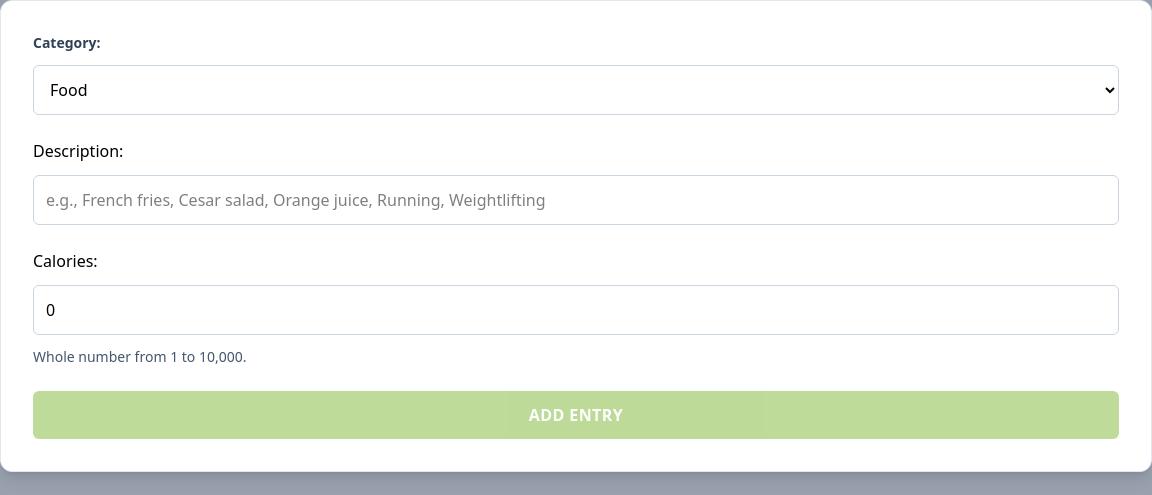
it: Form › clears the fields after adding
The width and height of the screenshot is (1152, 495).
Type "Salad" into the field labelled "Description:" at [576, 200], box [33,175,1119,225]
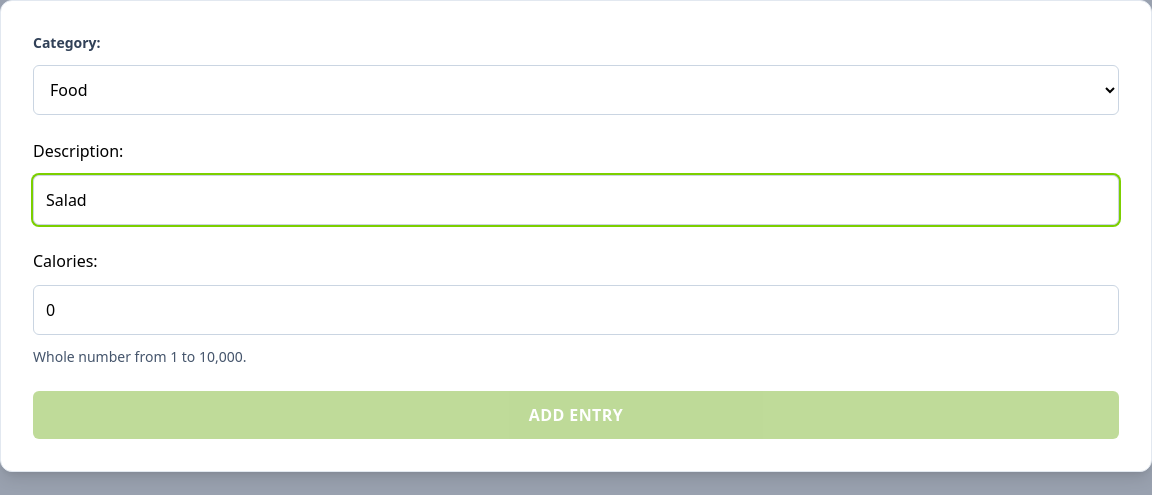
Replace the text in the number field labelled "Calories:" with "150" at [576, 310], box [33,285,1119,335]
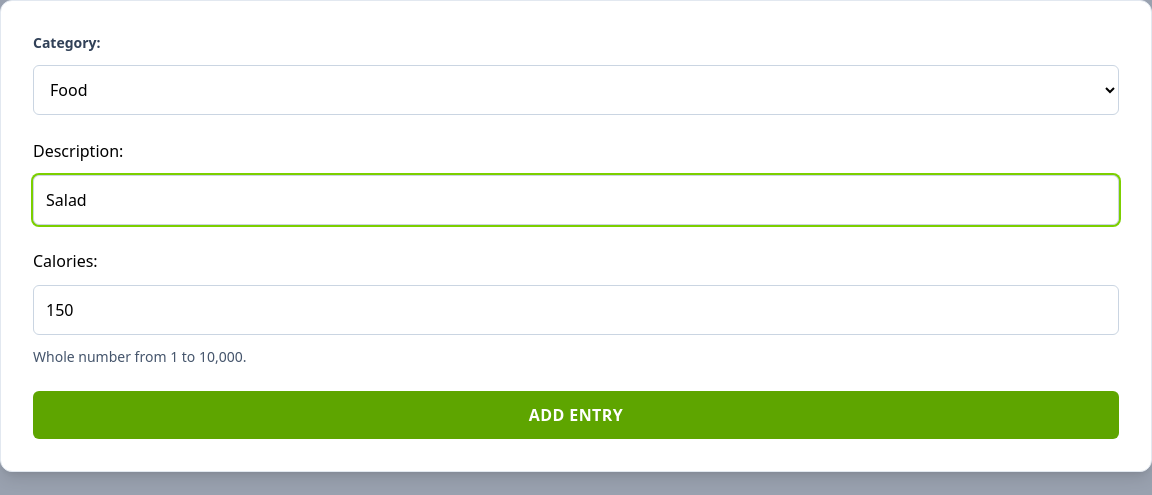
Click the button "Add Entry" at [576, 415], box [33,391,1119,439]
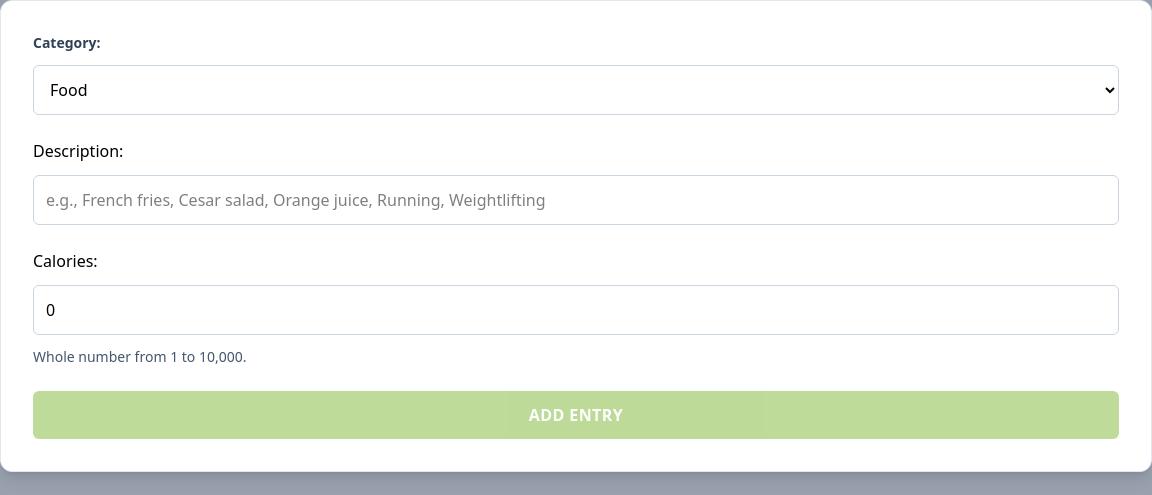
Check: the field labelled "Description:" is empty, box [33,175,1119,225]
Check: the number field labelled "Calories:" holds "0", box [33,285,1119,335]
